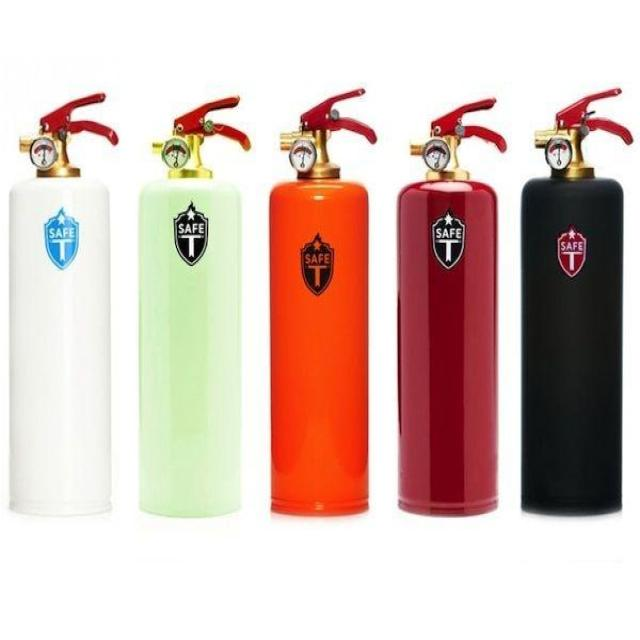fire_extinguisher: (2, 87, 124, 521), (133, 89, 253, 520), (517, 83, 633, 518), (262, 84, 378, 519), (393, 91, 507, 518)
